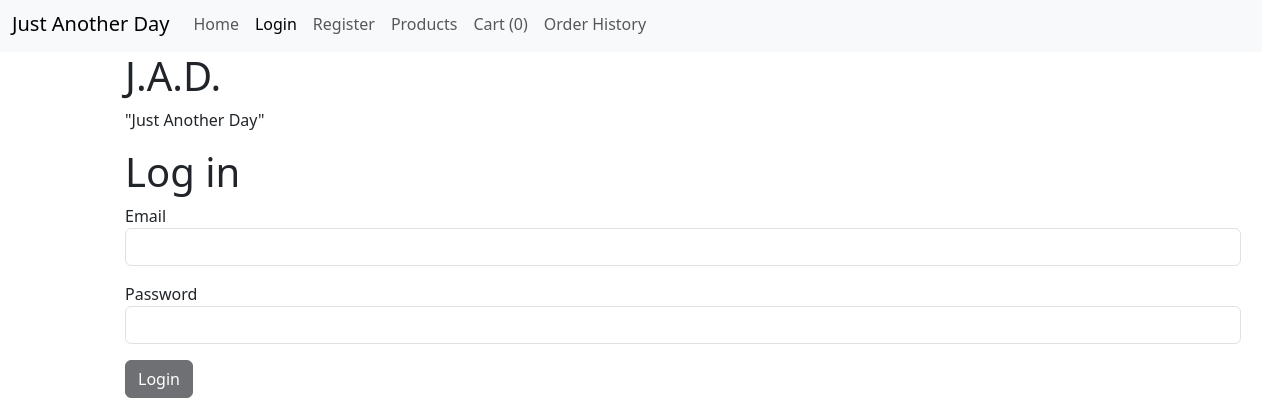
Scenario: LoginComponent › Should not login if password is too short
Type "test@test" into the field named "email" at [683, 247], box top-left (125, 228), bottom-right (1241, 266)
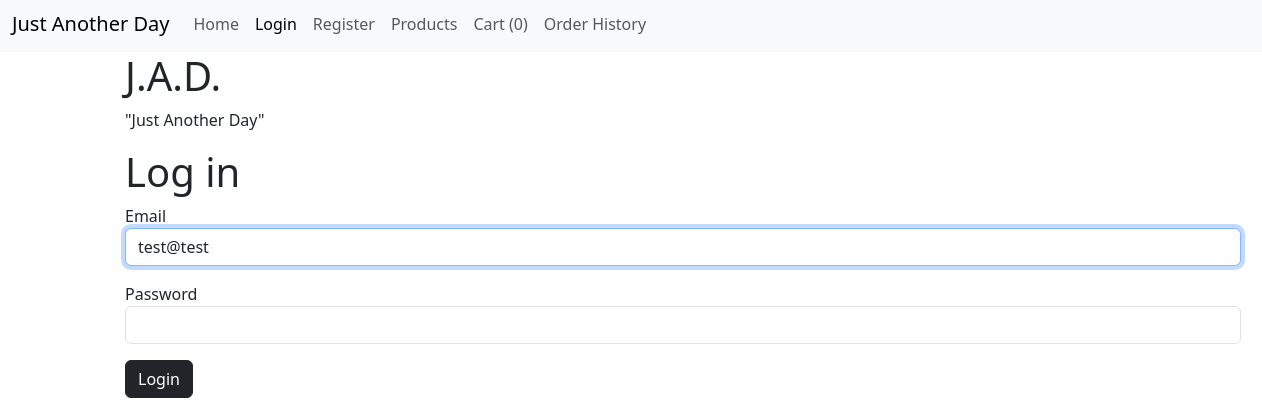
Type "test" into the password field named "password" at [683, 325], box top-left (125, 306), bottom-right (1241, 344)
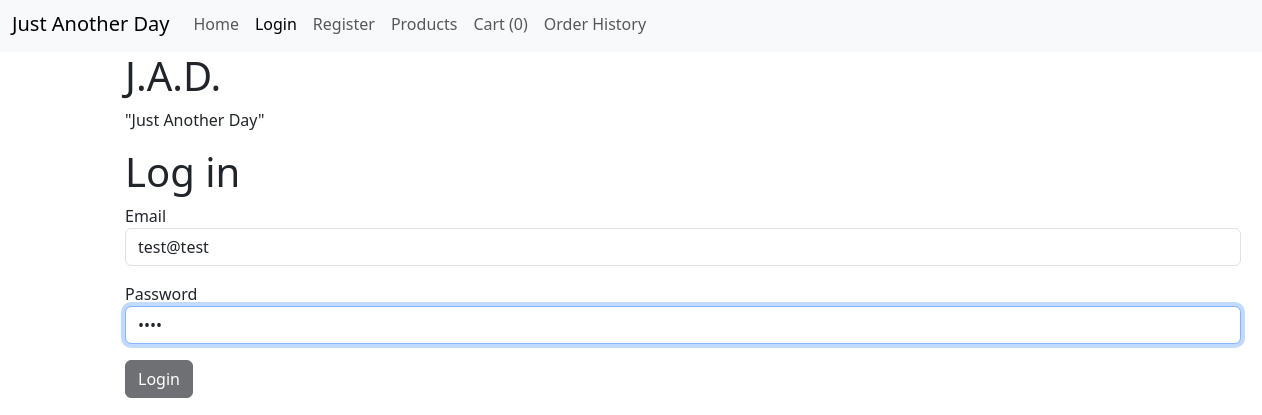
Check: the submit button is disabled, box top-left (125, 360), bottom-right (193, 398)
